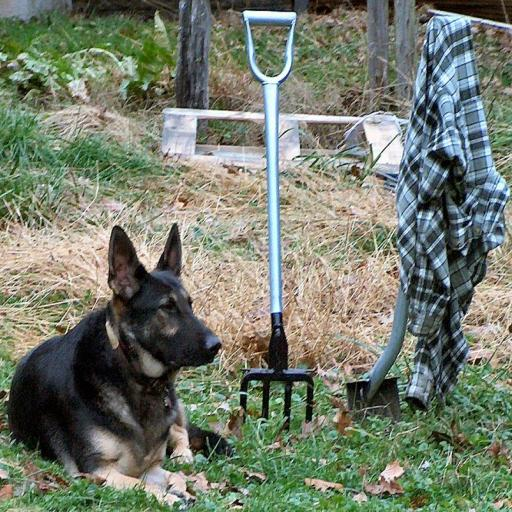dog_face: (108, 215, 218, 375)
